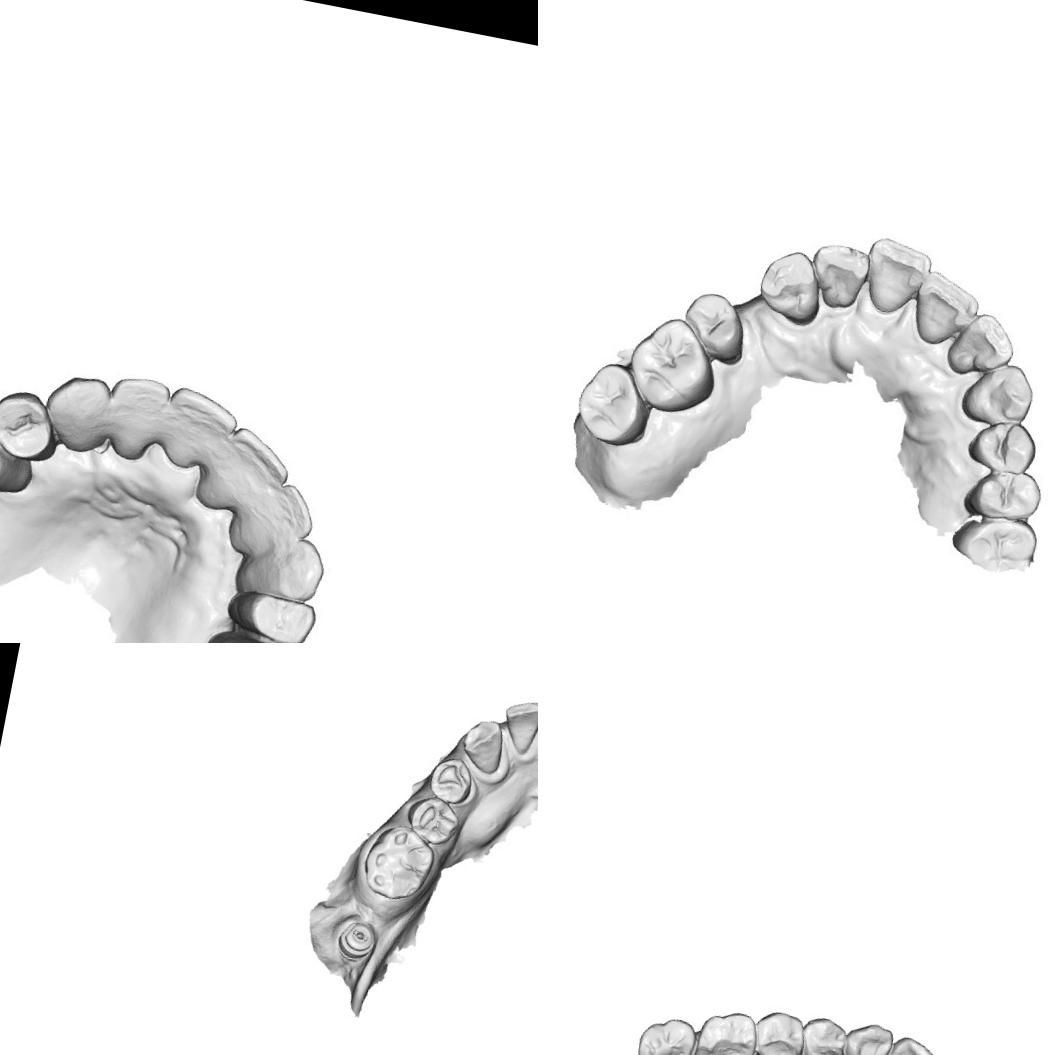canine: (233, 528, 328, 608), (956, 353, 1042, 433), (38, 367, 114, 452), (752, 245, 827, 328), (456, 714, 510, 778), (837, 1016, 894, 1055)
implant_minus: (331, 915, 378, 964)
incisor: (192, 423, 288, 519), (151, 382, 238, 478), (225, 474, 318, 560), (855, 231, 936, 321), (904, 267, 982, 352), (103, 375, 168, 460), (802, 236, 871, 314), (947, 303, 1016, 376), (496, 694, 538, 758), (875, 1030, 941, 1055)
molar: (619, 308, 725, 420), (567, 358, 657, 450), (356, 818, 441, 907), (949, 509, 1040, 575), (686, 1003, 762, 1055), (628, 1010, 699, 1055)
premolar: (960, 460, 1046, 528), (229, 586, 321, 643), (680, 288, 752, 360), (964, 414, 1045, 477), (0, 386, 59, 461), (402, 791, 464, 849), (744, 1006, 810, 1055), (424, 752, 476, 806), (0, 409, 32, 491), (791, 1011, 850, 1055)
